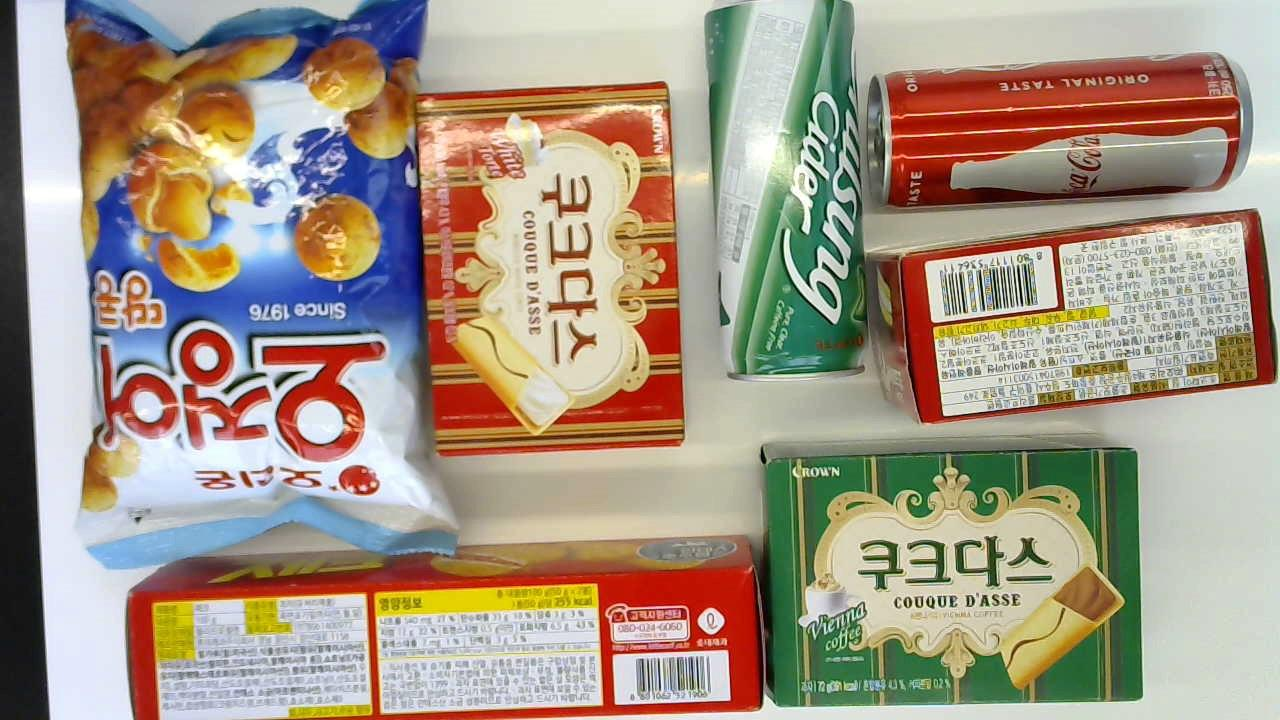chocopie: (870, 205, 1278, 428)
cidar: (704, 0, 871, 377)
coke: (867, 51, 1251, 210)
couque_coffee: (762, 431, 1144, 708)
couque_white: (412, 82, 688, 459)
squid_peanut: (60, 3, 458, 561)
zec: (131, 527, 763, 720)
